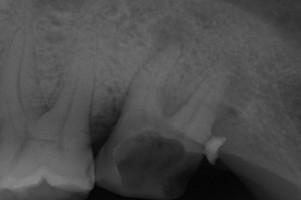Furcation Involvement: (213, 53, 257, 128), (149, 15, 195, 58)
